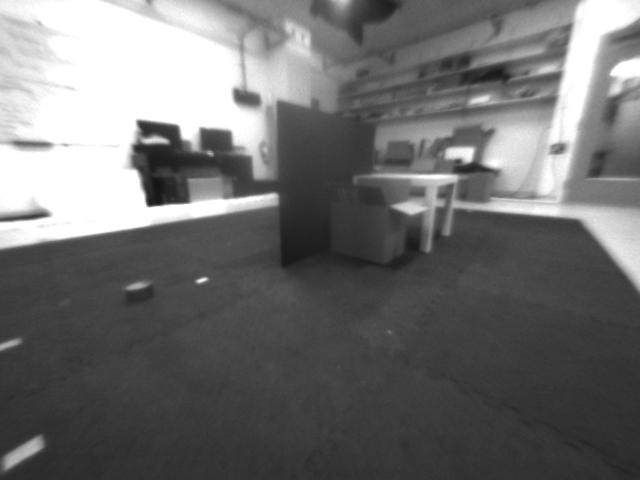dogtoy: (108, 276, 164, 306)
